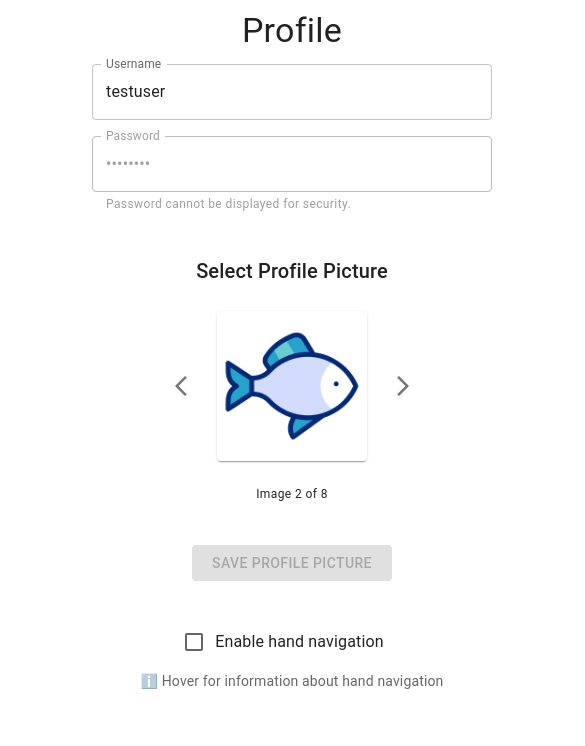
Test case: Profile Component › updates profile image successfully on save
Click the button named "next image" at (403, 386), box [383,366,423,406]
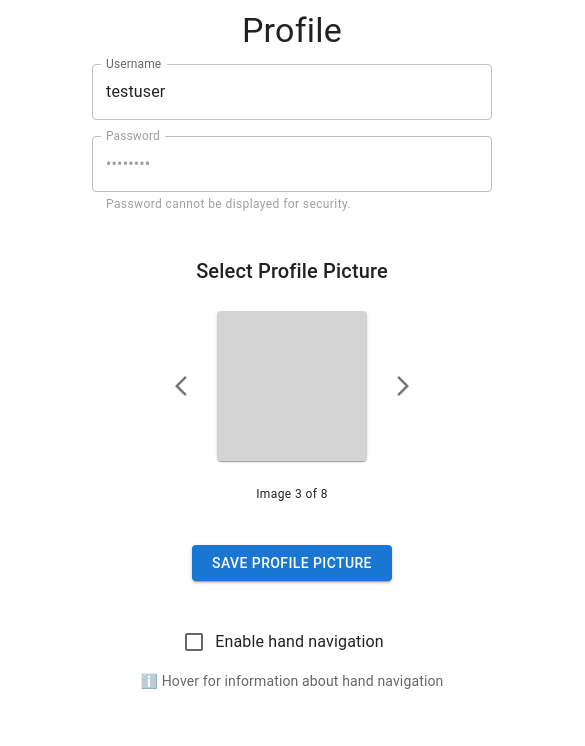
Result: the button "Save Profile Picture" is enabled
Click the button "Save Profile Picture" at (292, 563), box [192,545,392,581]
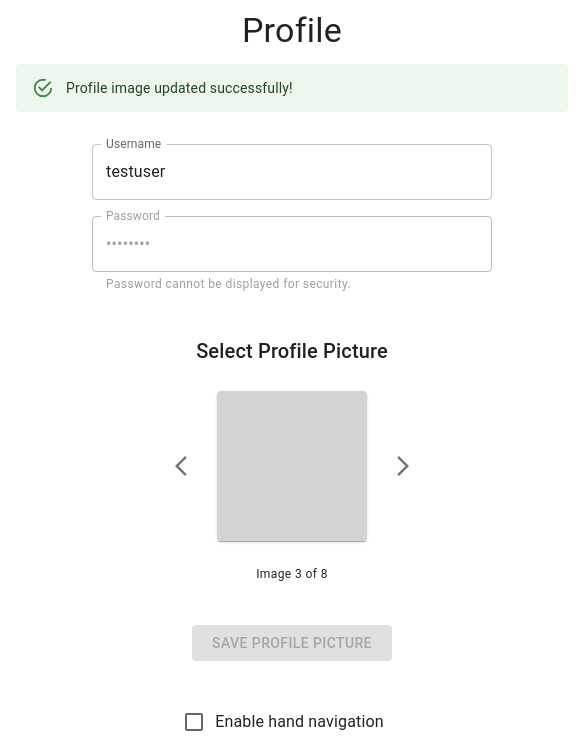
Result: the text "Profile image updated successfully!" is shown at [66,80,293,96]
Result: the button "Save Profile Picture" is disabled at [192,625,392,661]
